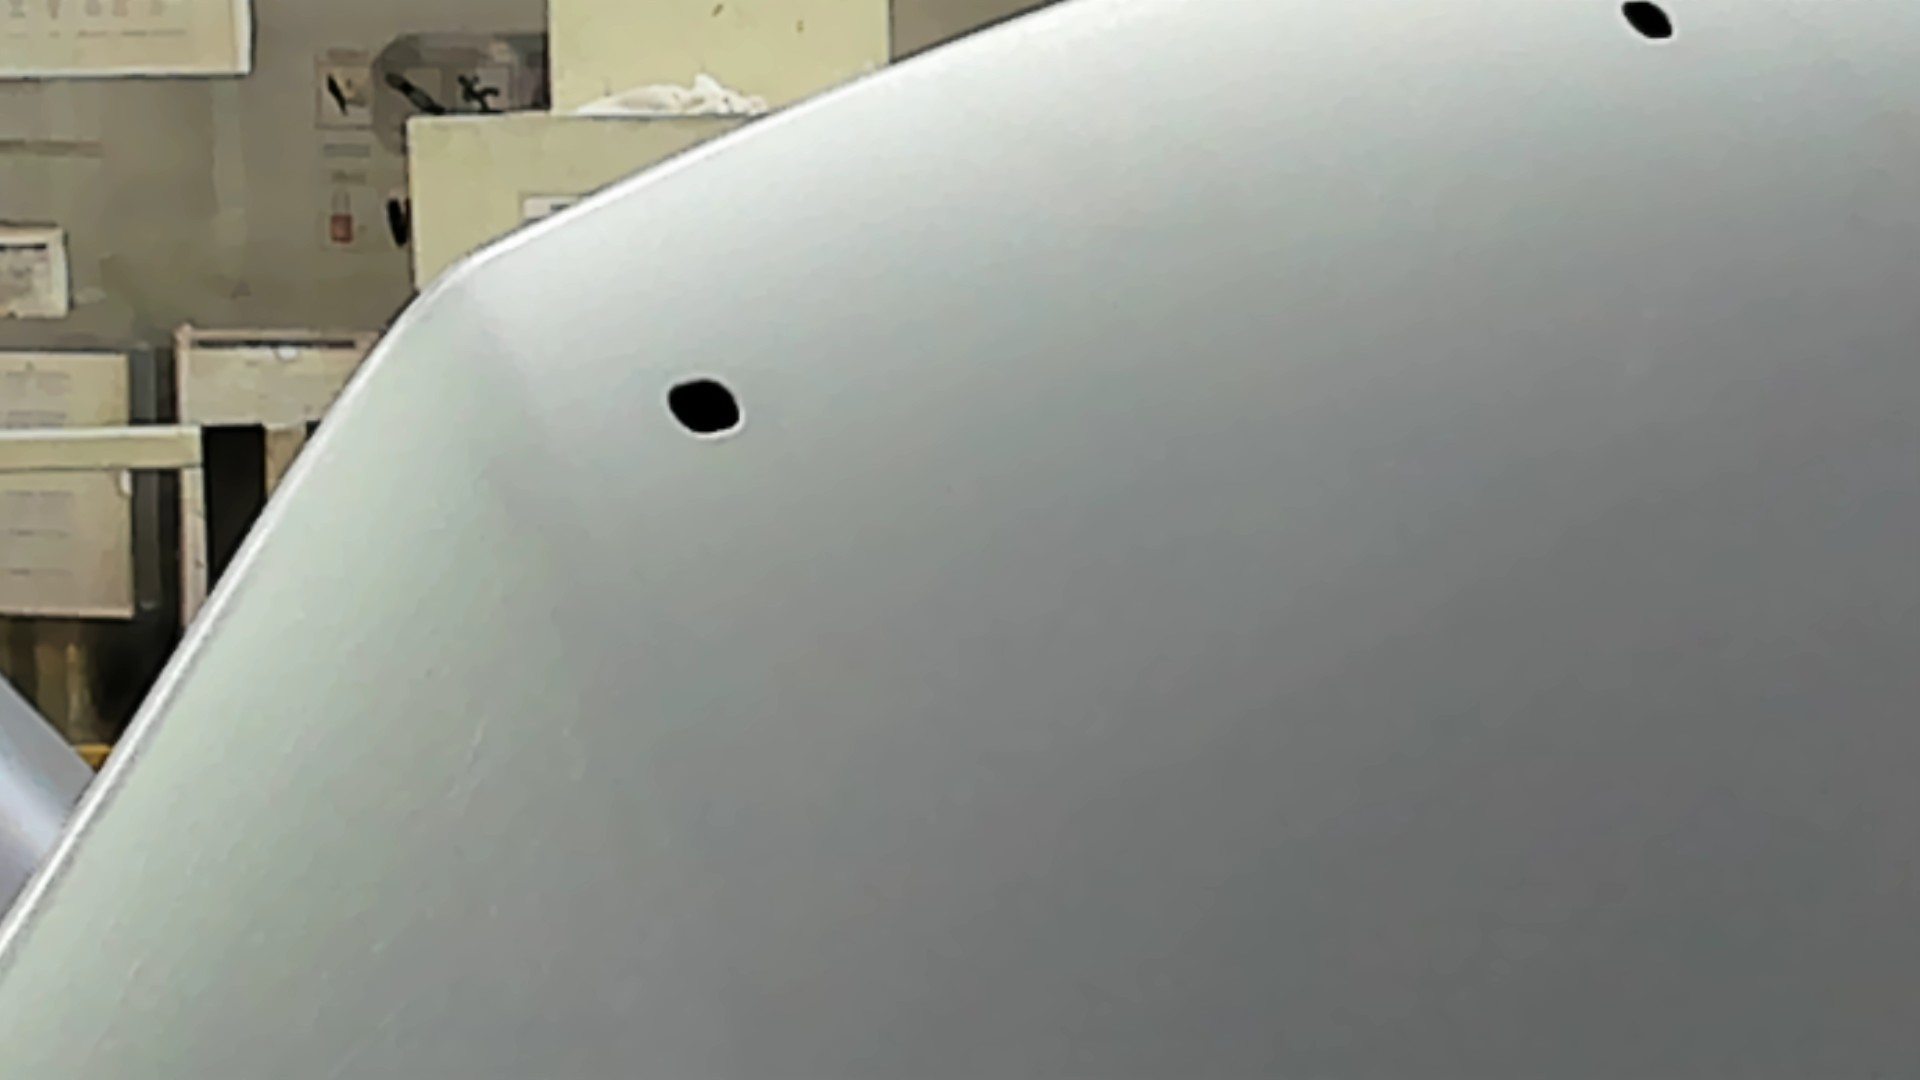amorfo: (663, 369, 746, 442), (1619, 1, 1683, 44)
